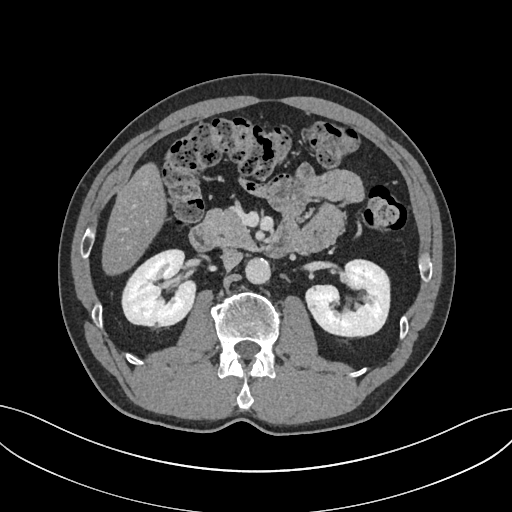Lesion: (152, 318, 161, 331)
